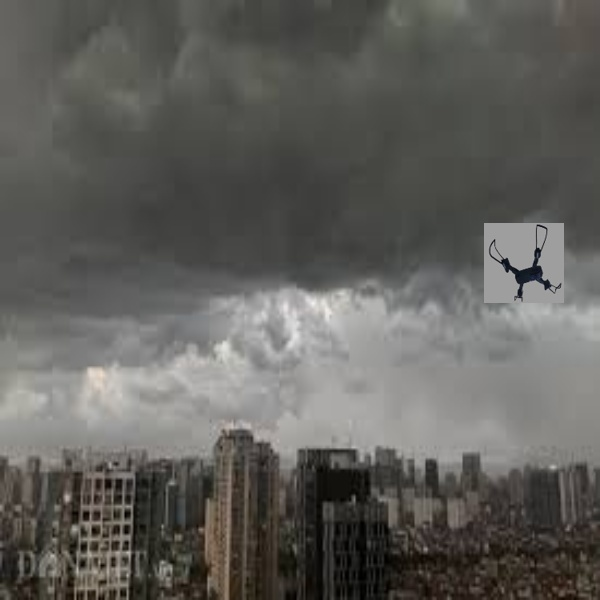drone: (484, 218, 563, 304)
